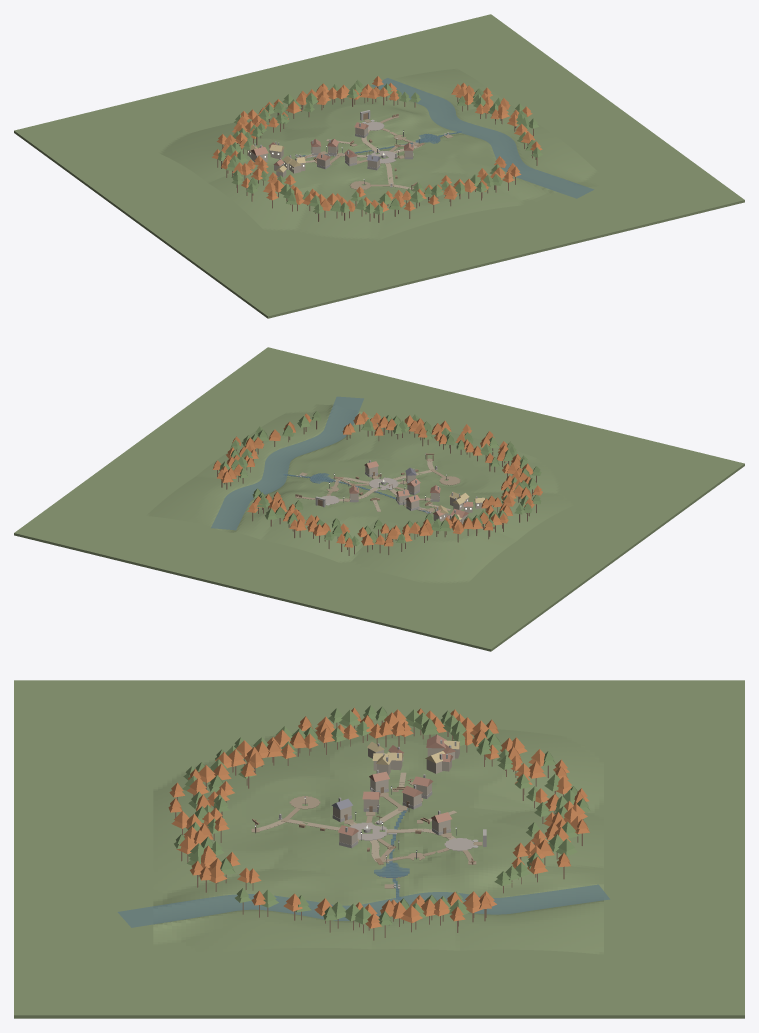
3 views of the same model, one above another, from view 1: azimuth 30°, elevation 25°; view 2: azimuth 150°, elevation 25°; view 3: azimuth 270°, elevation 25° (orthographic). The views are drawn at different scales.
Parts seen in each view (by area): view 1: emb_ground_far, emb_ground_valley, water_emb_river; view 2: emb_ground_far, emb_ground_valley, water_emb_river; view 3: emb_ground_far, emb_ground_valley, water_emb_river.
Boxes of the visible parts, <box> form: emb_ground_far: <box>14,14,744,318</box>; emb_ground_valley: <box>147,68,613,258</box>; water_emb_river: <box>371,78,594,198</box>; emb_ground_far: <box>14,347,744,651</box>; emb_ground_valley: <box>146,401,612,590</box>; water_emb_river: <box>211,396,363,530</box>; emb_ground_far: <box>14,680,744,1018</box>; emb_ground_valley: <box>153,727,603,954</box>; water_emb_river: <box>117,884,610,927</box>.
Size of the model in its own units: 256 by 18.09 by 236.
